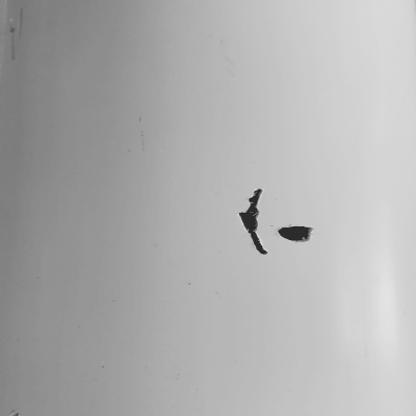kongdong: (240, 188, 268, 258), (278, 224, 312, 247)
